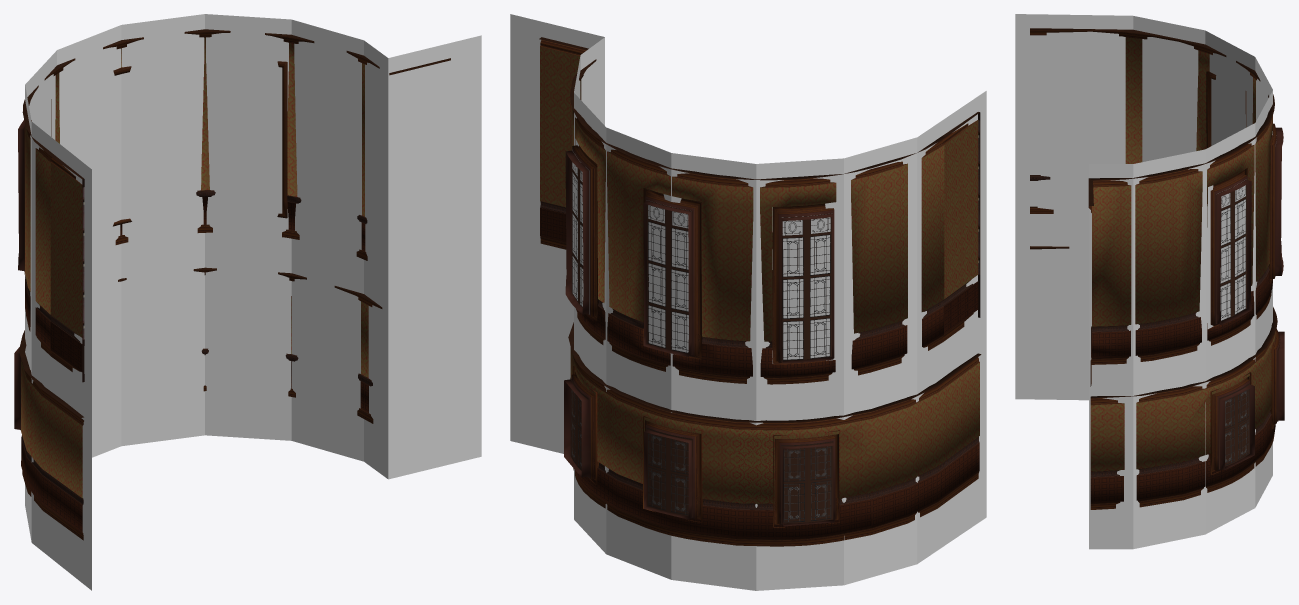
File: Wall_horseshoeUPandLower.fbx
The picture shows the model from 3 angles, left to right: view 1: azimuth 30°, elevation 25°; view 2: azimuth 150°, elevation 25°; view 3: azimuth 270°, elevation 25°; orthographic projection. The views are drawn at different scales.
Parts seen in each view (by area): view 1: HorseshoeCollMesh, WallSectionCURVEDLIbrary_UF.001, Wall_horseshoeLower; view 2: WallSectionCURVEDLIbrary_UF.001, HorseshoeCollMesh, Wall_horseshoeLower; view 3: HorseshoeCollMesh, WallSectionCURVEDLIbrary_UF.001, Wall_horseshoeLower.
Part boxes in pixels (x1,y1,x2,y2): HorseshoeCollMesh: [25, 14, 481, 590]; WallSectionCURVEDLIbrary_UF.001: [18, 29, 450, 382]; Wall_horseshoeLower: [14, 267, 382, 540]; WallSectionCURVEDLIbrary_UF.001: [539, 37, 980, 384]; HorseshoeCollMesh: [510, 14, 986, 590]; Wall_horseshoeLower: [564, 322, 981, 546]; HorseshoeCollMesh: [1015, 14, 1272, 549]; WallSectionCURVEDLIbrary_UF.001: [1030, 28, 1283, 386]; Wall_horseshoeLower: [1030, 246, 1284, 509].
Bounding box in the file's own units: 1365 × 1269 × 804.
